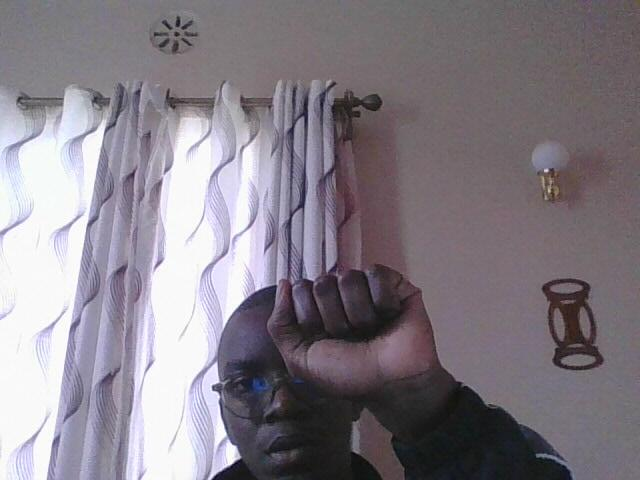rock: (258, 254, 469, 412), (263, 259, 449, 409)
